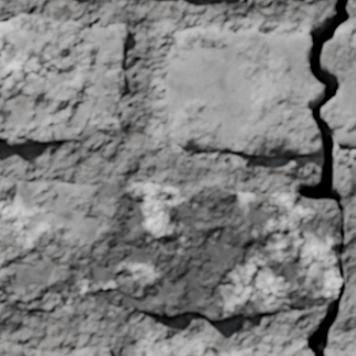brick: (0, 177, 340, 319), (0, 14, 129, 146), (0, 342, 110, 355), (307, 200, 317, 203)
broken_brick: (165, 27, 321, 158), (322, 36, 355, 149), (146, 343, 273, 355), (275, 349, 309, 355), (331, 349, 355, 355)
crack: (297, 0, 353, 355)
